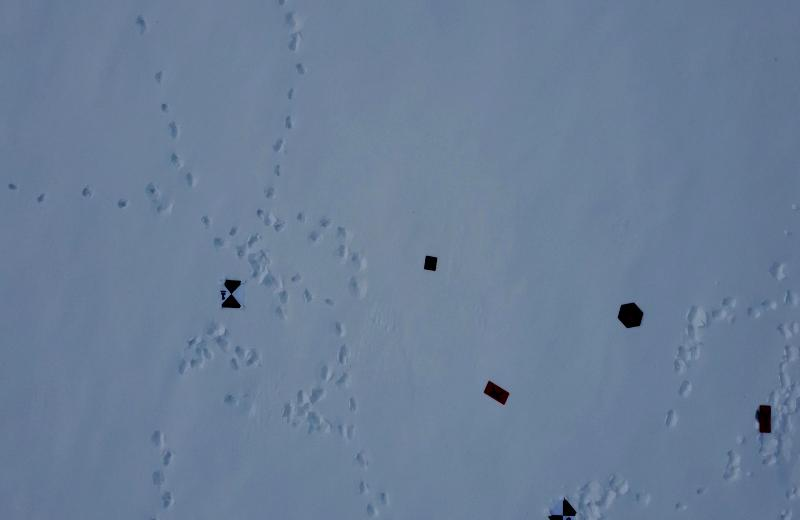Hexagon: (616, 300, 646, 334)
Rectangle: (482, 375, 511, 410), (749, 403, 778, 435)
Square: (418, 253, 440, 277)
